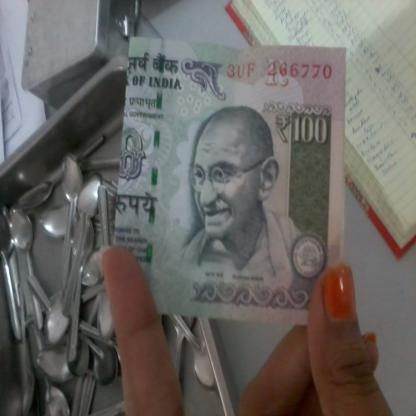Old100Front: (114, 37, 348, 328)
